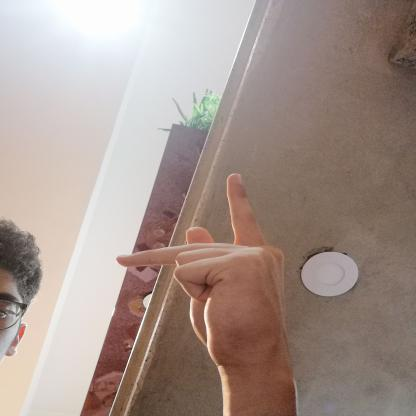DHAA: (102, 166, 303, 377)
